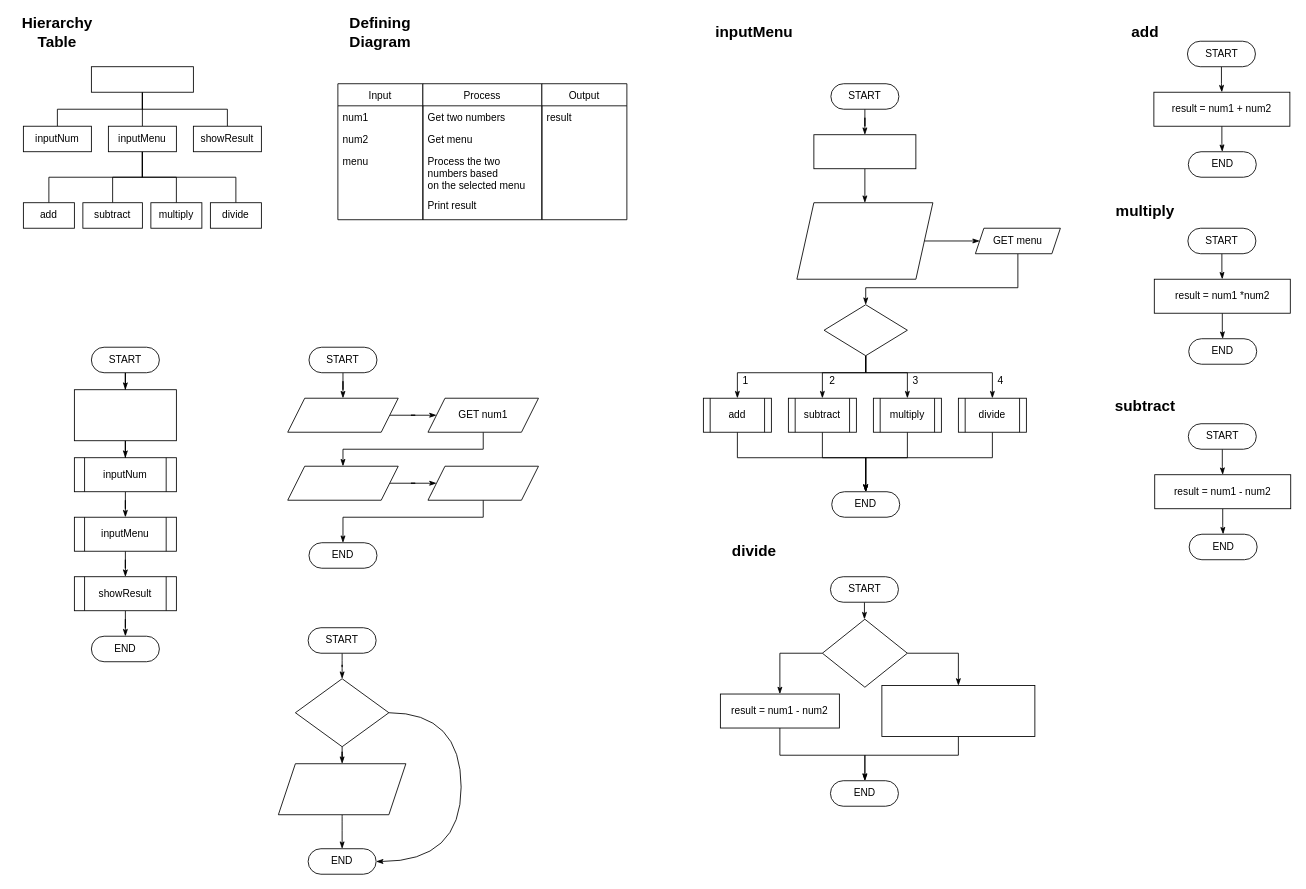
This 1306x889 diagram has some shape labels left out. The shapes that lost their labels are listed below. From the top down, each one's centre as x and y in pixels, then its label:
point (142, 79): simpleCalculator
point (864, 151): DECLARE menu
point (864, 240): PRINT "1. Sum \n" "2. Difference \n" "3. Product \n" "4. Quotient \n"
point (865, 330): menu?
point (125, 415): DECLARE num1, num2, result
point (342, 414): PRINT "Input number 1:
point (342, 482): PRINT "Input number 2:
point (482, 482): GET num2
point (864, 652): num2 != 0?
point (342, 712): result != ""
point (958, 711): PRINT "Quotient cannot be performed because second number is zero"
point (342, 789): PRINT "Result: ", result
